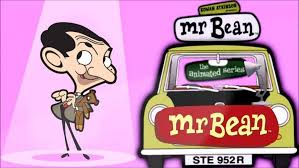mrbean: (40, 21, 118, 162)
